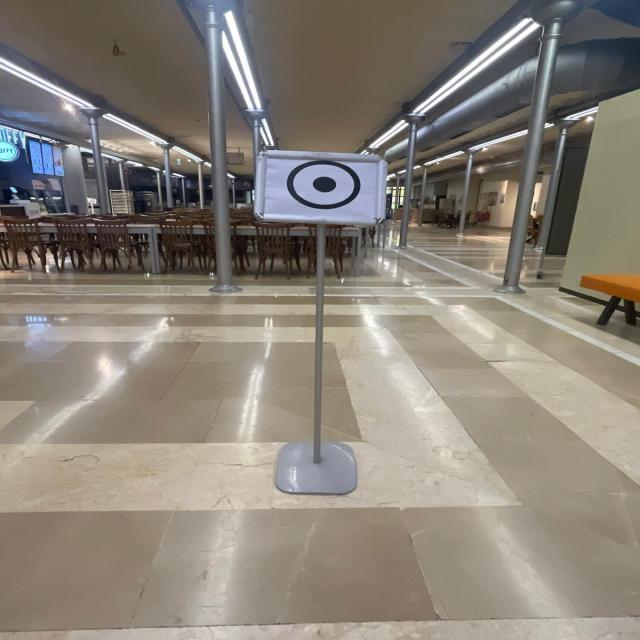Target: (251, 127, 403, 250)
inner: (312, 171, 336, 198)
